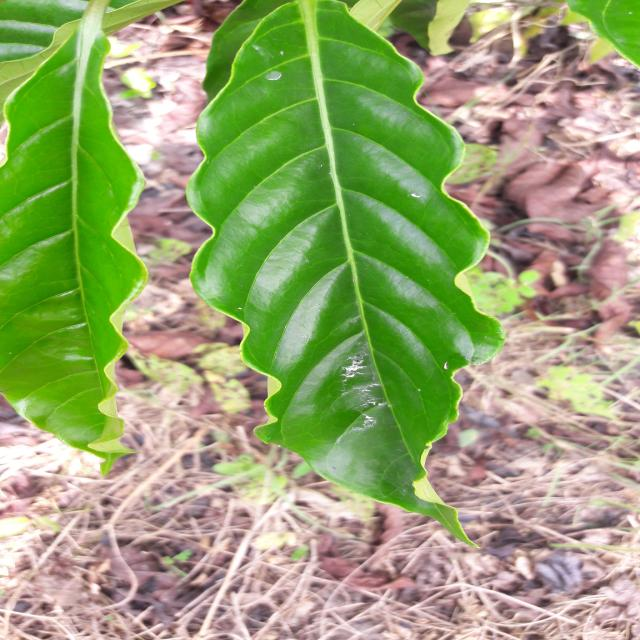Sanas: (185, 0, 505, 545)
